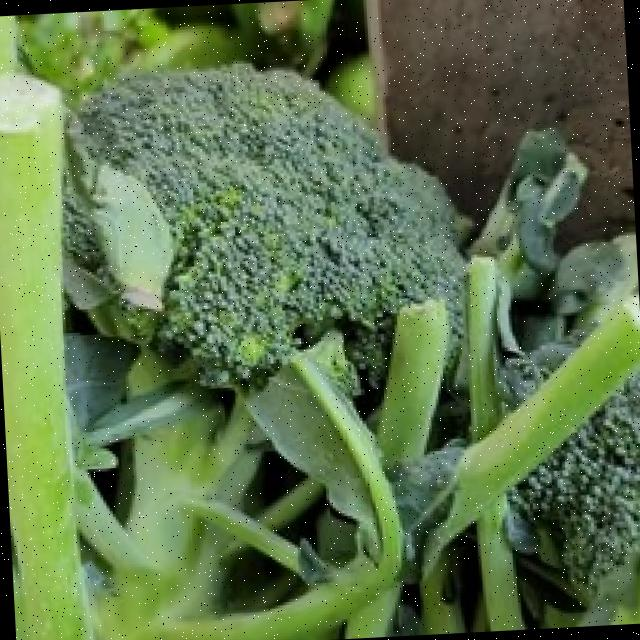Broccoli: (79, 65, 465, 386), (80, 65, 465, 386), (509, 374, 640, 594), (509, 374, 640, 594), (501, 343, 574, 405), (501, 343, 574, 404)
